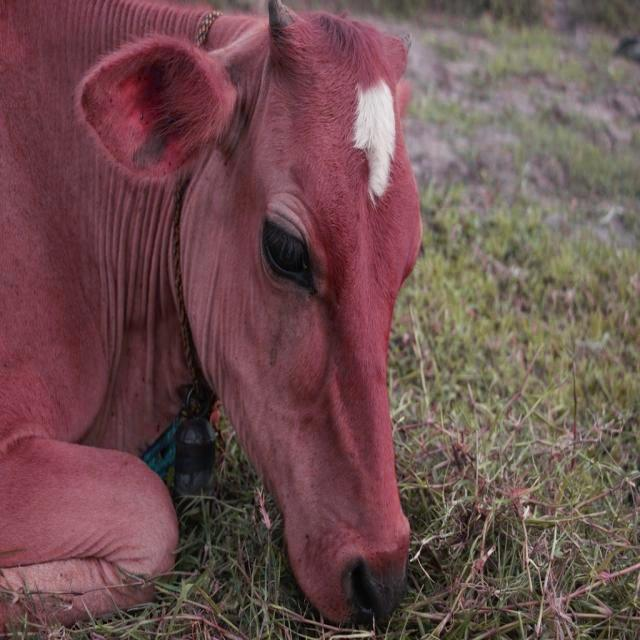cow: (0, 0, 420, 628)
